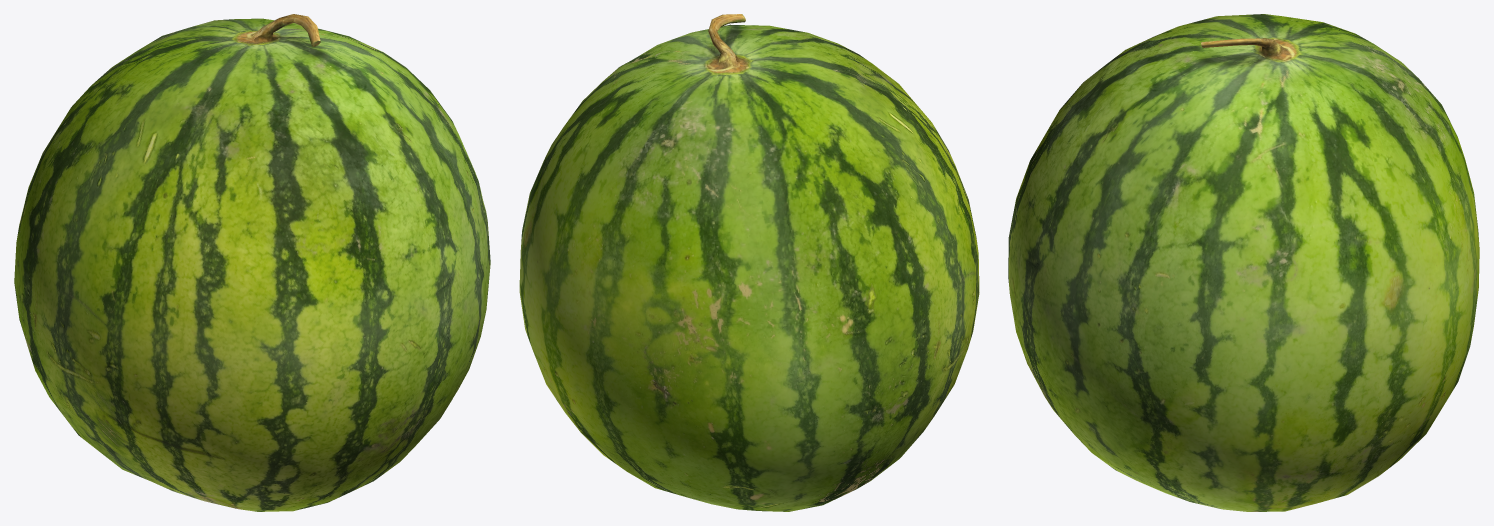
File: melon.obj
The picture shows the model from 3 angles, left to right: view 1: azimuth 30°, elevation 25°; view 2: azimuth 150°, elevation 25°; view 3: azimuth 270°, elevation 25°; orthographic projection. The views are drawn at different scales.
Visible parts, largest first — view 1: SM_Watermelon_01_low; view 2: SM_Watermelon_01_low; view 3: SM_Watermelon_01_low.
Part boxes in pixels (box(x1,y1,x2,y2)): SM_Watermelon_01_low: box(14, 14, 490, 511); SM_Watermelon_01_low: box(519, 14, 979, 511); SM_Watermelon_01_low: box(1008, 14, 1479, 511).
Size of the model in its own units: 0.2182 by 0.2344 by 0.2123.
